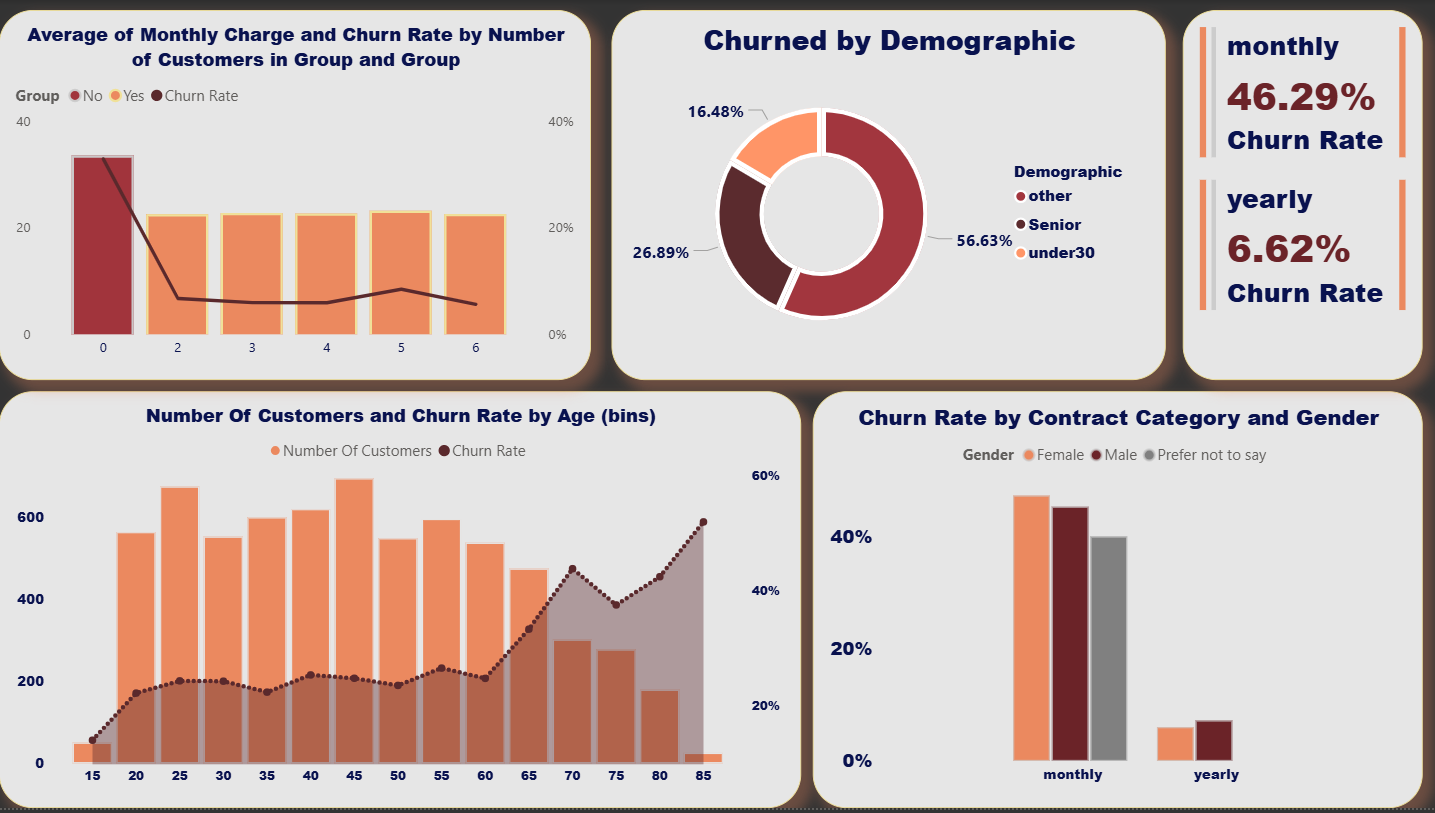

The page's visual inventory and layout, read from the dashboard file:
{"tool":"powerbi","page":{"name":"Demographics","canvas":[1280,720],"ordinal":1},"visuals":[{"type":"donutChart","title":"Churned by Demographic","fields":{"Y":["Databel - Data (2).Churned of Customers"],"Category":["Databel - Data (2).Demographic"]},"box":[545.3,8.4,493.4,329.4],"z":0},{"type":"lineStackedColumnComboChart","fields":{"Category":["Databel - Data.Age (bins)"],"Y":["Databel - Data (2).Number Of Customers"],"Y2":["Databel - Data (2).Churn Rate"]},"box":[0,348.7,714.2,371.6],"z":1000},{"type":"lineStackedColumnComboChart","fields":{"Y":["Avg(Databel - Data.Monthly Charge)"],"Category":["Databel - Data (2).Number of Customers in Group"],"Y2":["Databel - Data (2).Churn Rate"],"Series":["Databel - Data (2).Group"]},"box":[0,8.4,527.2,329.4],"z":2000},{"type":"clusteredColumnChart","fields":{"Category":["Databel - Data.Contract Category"],"Y":["Databel - Data (2).Churn Rate"],"Series":["Databel - Data (2).Gender"]},"box":[725.1,348.7,542.9,371.6],"z":3000},{"type":"multiRowCard","fields":{"Values":["Databel - Data.Contract Category","Databel - Data (2).Churn Rate"]},"box":[1054.4,8.4,213.5,329.4],"z":4000}]}

Visuals, with their boxes in screenshot pixels (x1, y1, x2, y2), scaled from the page's 1280x720 canvas onto the 1435x813 screenshot:
"Churned by Demographic" donutChart: 611,9,1164,381
lineStackedColumnComboChart - Databel - Data.Age (bins) x Databel - Data (2).Number Of Customers: 0,394,801,812
lineStackedColumnComboChart - Avg(Databel - Data.Monthly Charge) x Databel - Data (2).Number of Customers in Group: 0,9,591,381
clusteredColumnChart - Databel - Data.Contract Category x Databel - Data (2).Churn Rate: 813,394,1422,812
multiRowCard - Databel - Data.Contract Category x Databel - Data (2).Churn Rate: 1182,9,1421,381
